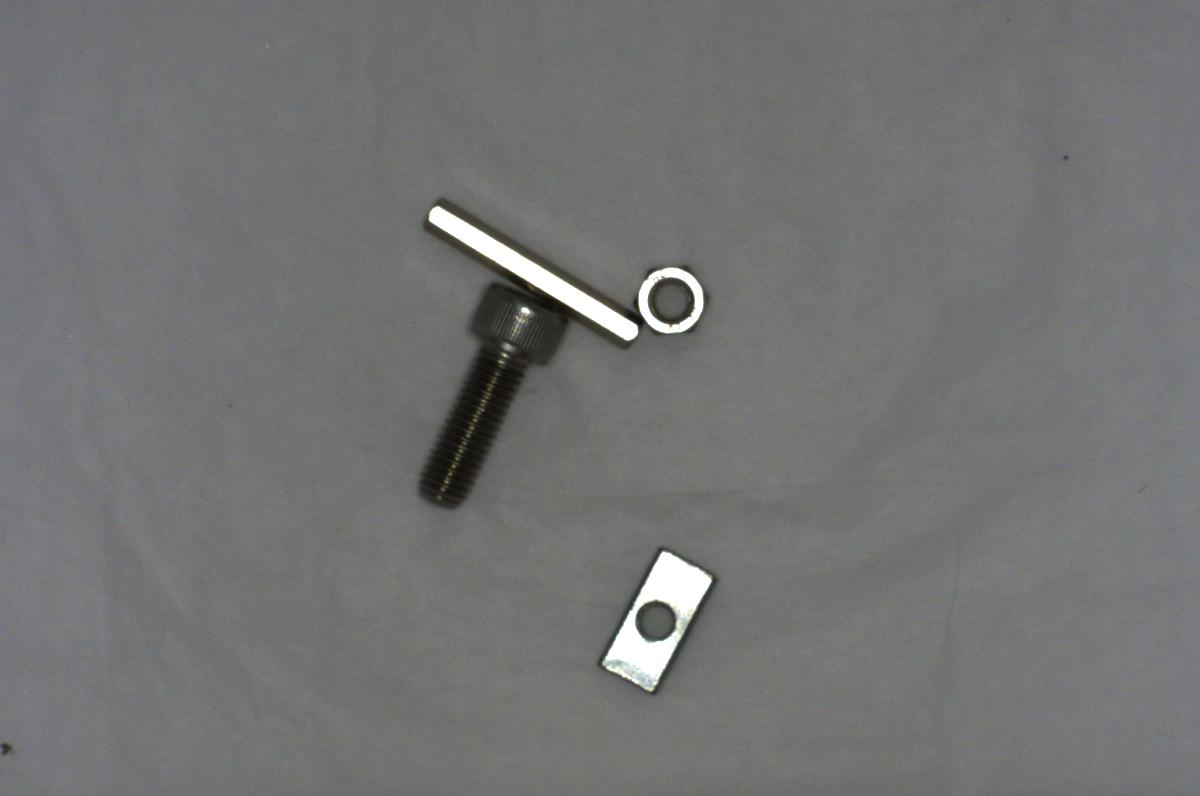Double hexagonal column: (418, 196, 641, 343)
Hexagon nut: (632, 252, 710, 342)
Hexagon screw: (405, 278, 571, 502)
Rectangular nut: (594, 542, 721, 701)
